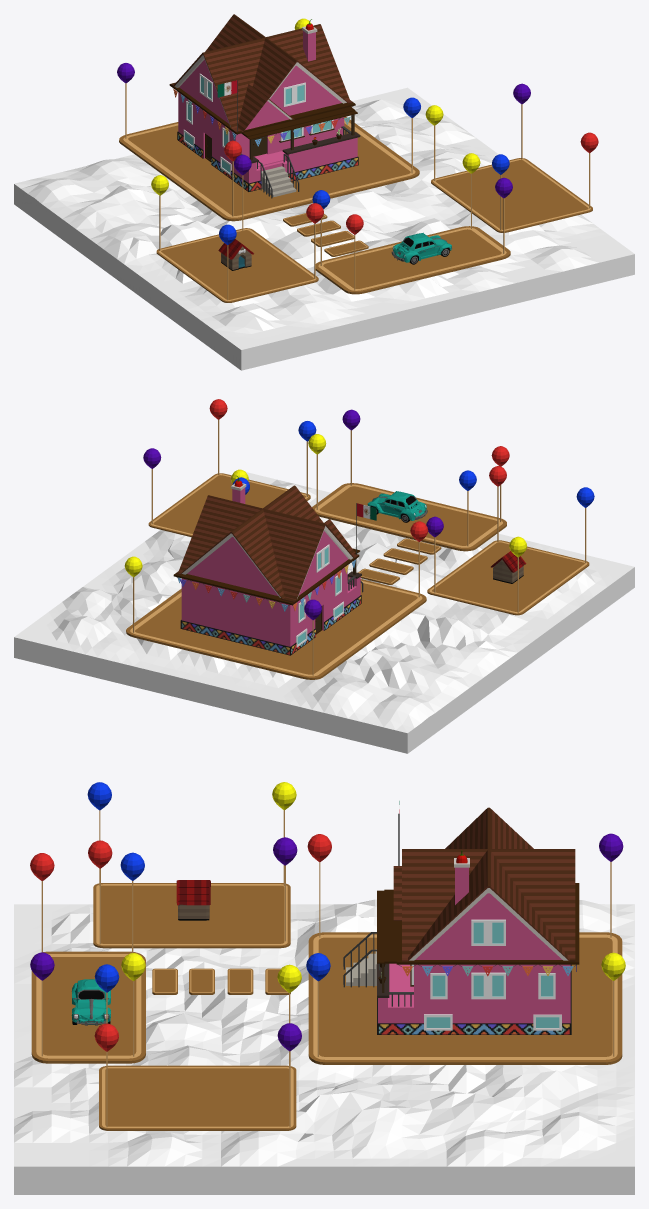
3 renders of one model, top to bottom at view 1: azimuth 30°, elevation 25°; view 2: azimuth 150°, elevation 25°; view 3: azimuth 270°, elevation 25°, orthographic. The views are drawn at different scales.
Visible parts, largest first — view 1: Cube.013, Cube.1005, VEHICLES_VOLKSWAGEN, OBJRANDOM_DOGHOUSE; view 2: Cube.013, Cube.1005, VEHICLES_VOLKSWAGEN, OBJRANDOM_DOGHOUSE; view 3: Cube.013, Cube.1005, VEHICLES_VOLKSWAGEN, OBJRANDOM_DOGHOUSE.
Part boxes in pixels (left/top/right/bottom): Cube.013: left=14, top=18, right=634, bottom=370; Cube.1005: left=169, top=14, right=360, bottom=198; VEHICLES_VOLKSWAGEN: left=391, top=232, right=452, bottom=264; OBJRANDOM_DOGHOUSE: left=218, top=239, right=253, bottom=270; Cube.013: left=14, top=399, right=634, bottom=753; Cube.1005: left=173, top=476, right=376, bottom=655; VEHICLES_VOLKSWAGEN: left=367, top=491, right=427, bottom=522; OBJRANDOM_DOGHOUSE: left=491, top=551, right=526, bottom=583; Cube.013: left=14, top=782, right=634, bottom=1194; Cube.1005: left=343, top=801, right=579, bottom=1034; VEHICLES_VOLKSWAGEN: left=71, top=979, right=110, bottom=1025; OBJRANDOM_DOGHOUSE: left=176, top=880, right=210, bottom=920.
Bounding box in the file's own units: 4000 × 1796 × 4000.
Materials: 68 (4 with a texture image).
